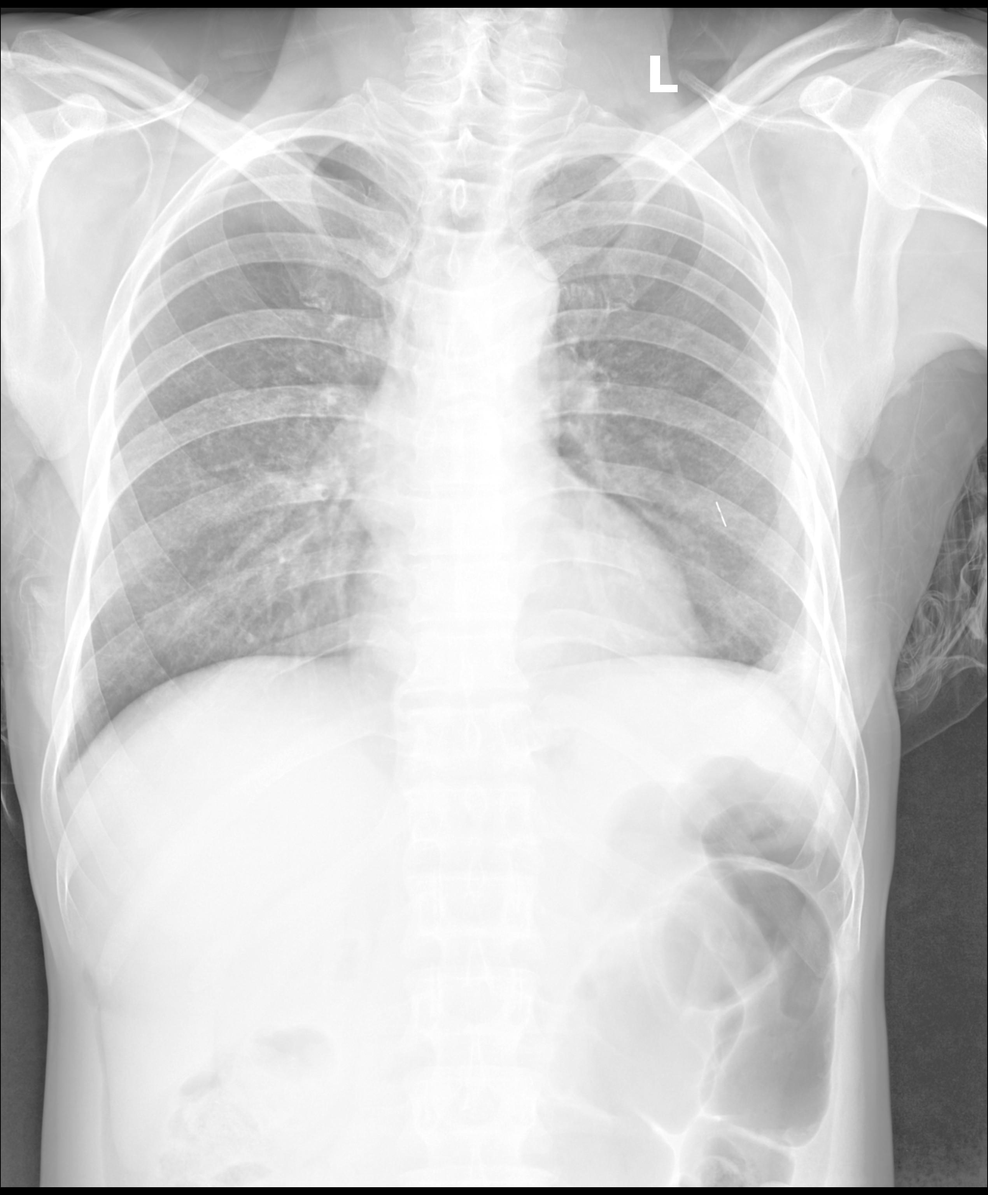Pleural thickening: (757, 603, 834, 718)
